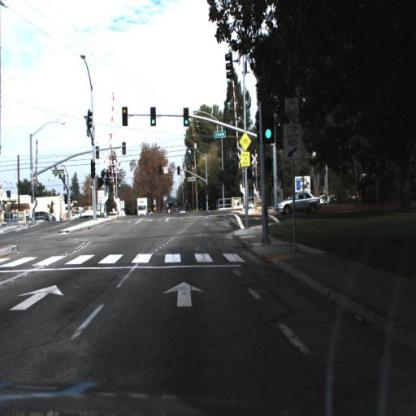car: (275, 189, 323, 218), (33, 210, 57, 224), (167, 201, 179, 217)
trafficLight-Green: (262, 95, 276, 144), (151, 107, 160, 133), (152, 106, 157, 128), (183, 109, 189, 127)
trafficLight-RedLeft: (122, 107, 130, 126), (122, 105, 129, 126)
truck: (137, 195, 150, 224), (136, 195, 150, 217)
